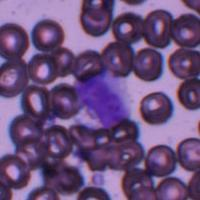M: (76, 70, 132, 128)
